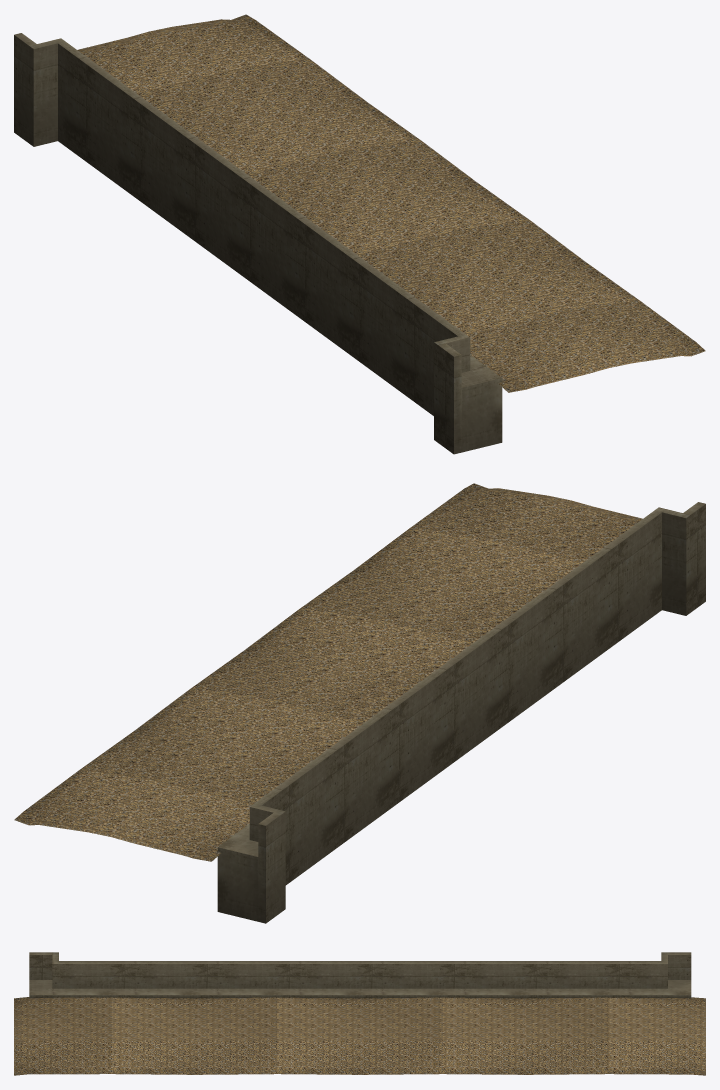
The model's file is HK_KOUKA_R100.glb.
3 views of the same model, one above another, from view 1: azimuth 30°, elevation 25°; view 2: azimuth 150°, elevation 25°; view 3: azimuth 270°, elevation 25° (orthographic). The views are drawn at different scales.
Visible parts, largest first — view 1: Right; view 2: Right; view 3: Right.
Part boxes in pixels (x1,y1,x2,y2): Right: (14, 14, 705, 454); Right: (14, 483, 705, 923); Right: (14, 952, 705, 1075).
Bounding box in the file's own units: 31.76 × 12.26 × 105.
2 materials, 2 textured.
